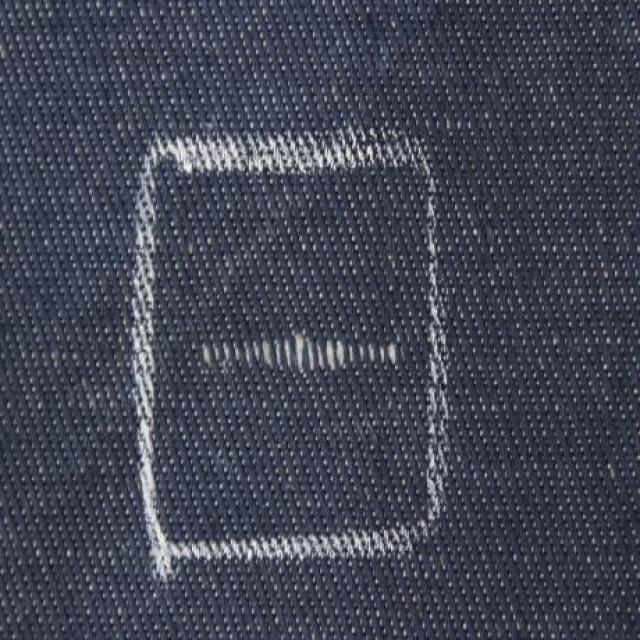Thread_other: (188, 304, 418, 430)
